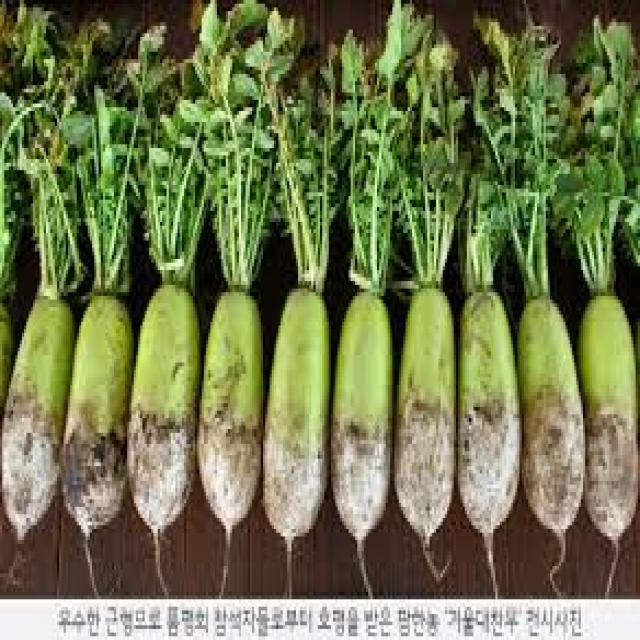raddish: (127, 285, 199, 594), (199, 292, 263, 594), (61, 296, 134, 560), (264, 287, 330, 578), (460, 292, 522, 597), (331, 292, 392, 594), (2, 296, 75, 542), (519, 296, 587, 557), (397, 289, 456, 583), (581, 296, 640, 548)
